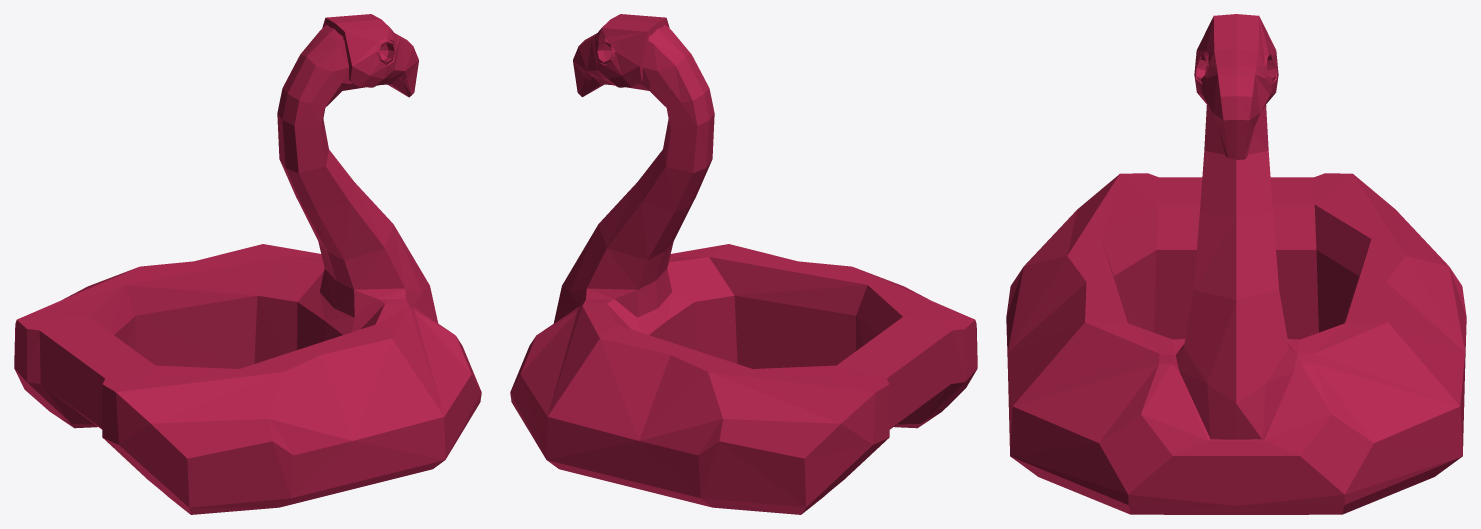
File: surge_payload.glb
The picture shows the model from 3 angles, left to right: view 1: azimuth 30°, elevation 25°; view 2: azimuth 150°, elevation 25°; view 3: azimuth 270°, elevation 25°; orthographic projection. The views are drawn at different scales.
Visible parts, largest first — view 1: payload; view 2: payload; view 3: payload.
Part boxes in pixels (x1,y1,x2,y2): payload: [14, 14, 481, 514]; payload: [510, 14, 977, 514]; payload: [1006, 14, 1466, 514].
Bounding box in the file's own units: 1.68 × 1.68 × 1.54.
